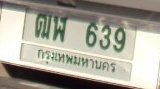txt13: (33, 12, 52, 42)
txt37: (51, 15, 70, 43)
